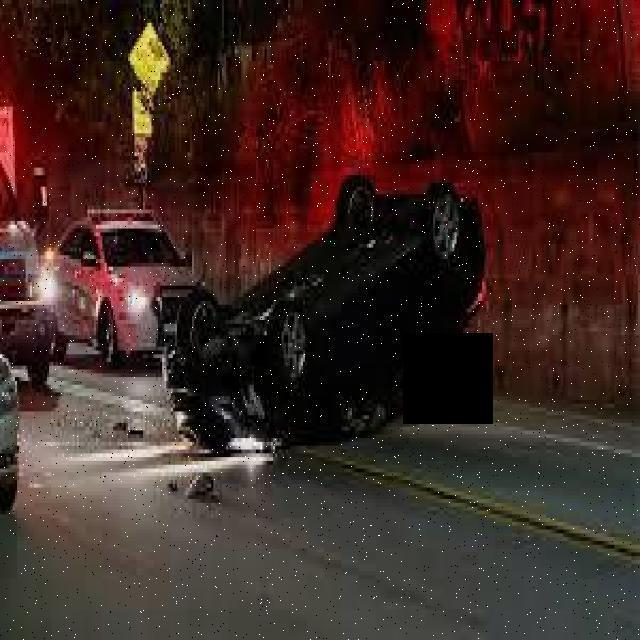single accident: (127, 203, 492, 467)
